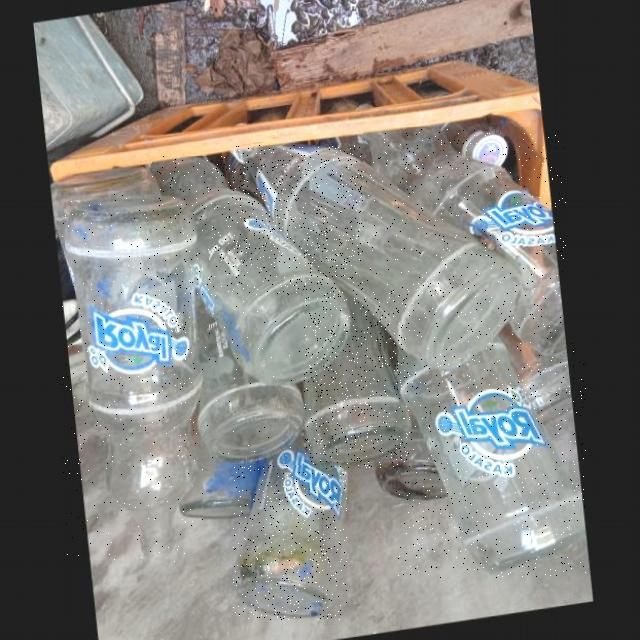glass: (231, 145, 521, 374), (63, 192, 203, 562), (363, 128, 566, 360), (152, 156, 351, 388), (396, 341, 586, 578), (233, 435, 347, 620), (303, 292, 410, 468), (197, 297, 304, 465)
